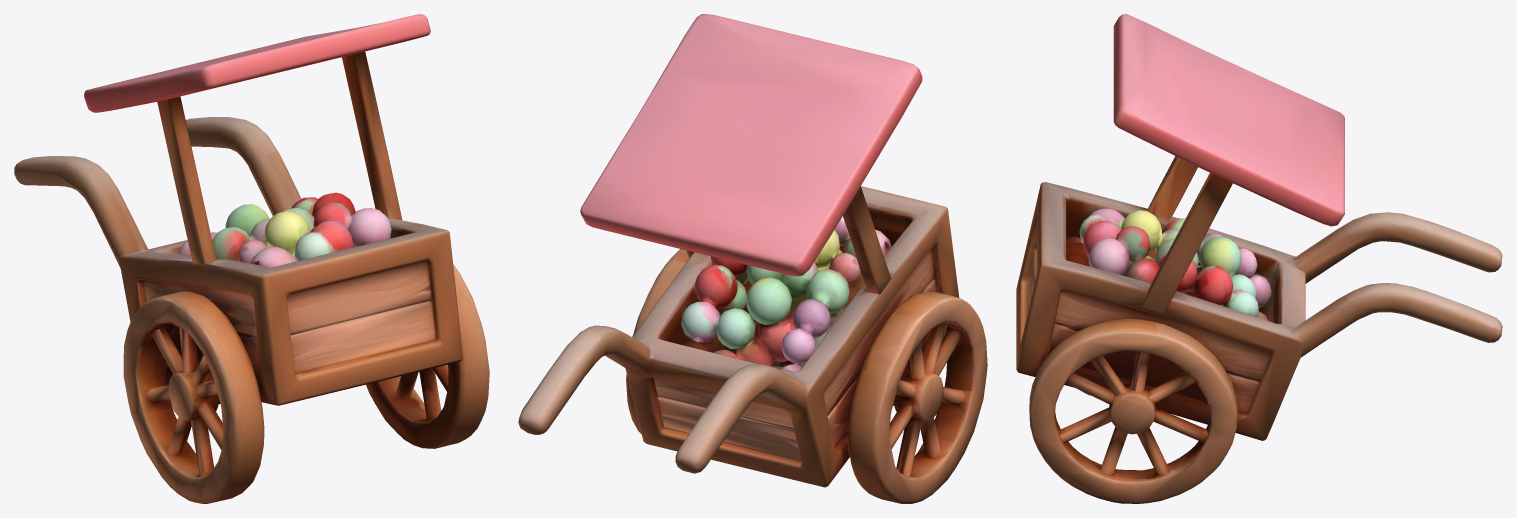
File: gerobak.glb
3 renders of one model, left to right at view 1: azimuth 30°, elevation 25°; view 2: azimuth 150°, elevation 25°; view 3: azimuth 270°, elevation 25°, orthographic. The views are drawn at different scales.
Visible parts, largest first — view 1: node_0; view 2: node_0; view 3: node_0.
Part boxes in pixels (box(x1,y1,x2,y2)): node_0: box(14, 14, 489, 503); node_0: box(518, 14, 987, 503); node_0: box(1016, 14, 1502, 503).
Size of the model in its own units: 0.5316 by 0.8554 by 0.965.
1 material, 1 textured.
